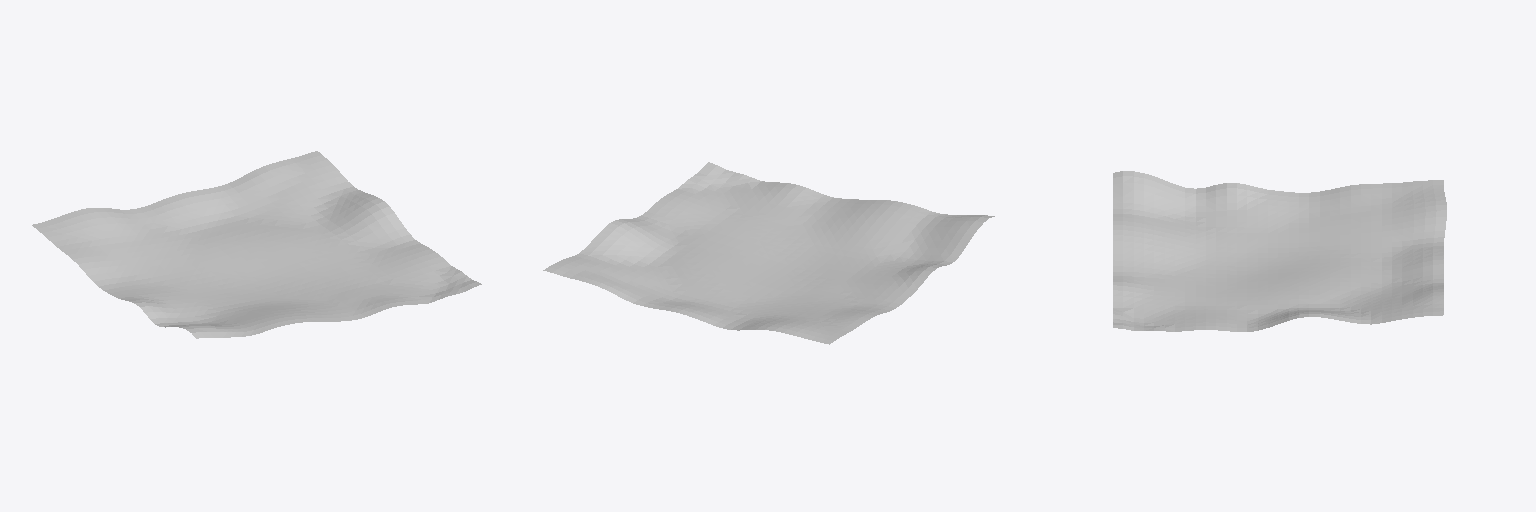
The model's file is world.obj.
3 views of the same model, side by side, from view 1: azimuth 30°, elevation 25°; view 2: azimuth 150°, elevation 25°; view 3: azimuth 270°, elevation 25° (orthographic).
Visible parts, largest first — view 1: Plane_Plane.001; view 2: Plane_Plane.001; view 3: Plane_Plane.001.
Boxes of the visible parts, x1=… form: Plane_Plane.001: x1=32, y1=151, x2=481, y2=338; Plane_Plane.001: x1=543, y1=162, x2=994, y2=344; Plane_Plane.001: x1=1113, y1=171, x2=1446, y2=331.
Bounding box in the file's own units: 72.81 × 7.38 × 73.59.